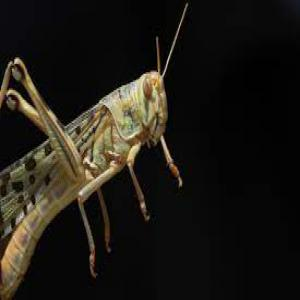locust: (1, 27, 183, 280)
